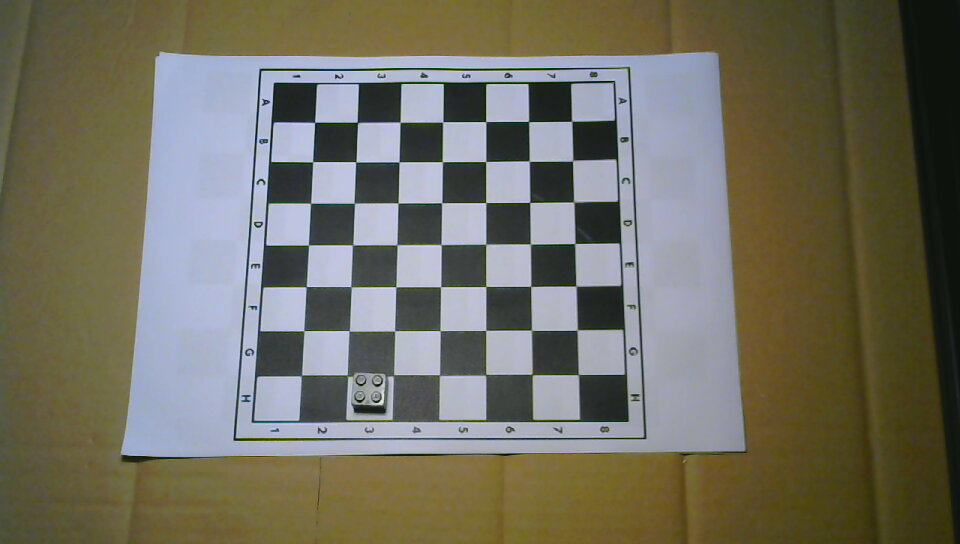bp: (350, 371, 389, 414)
